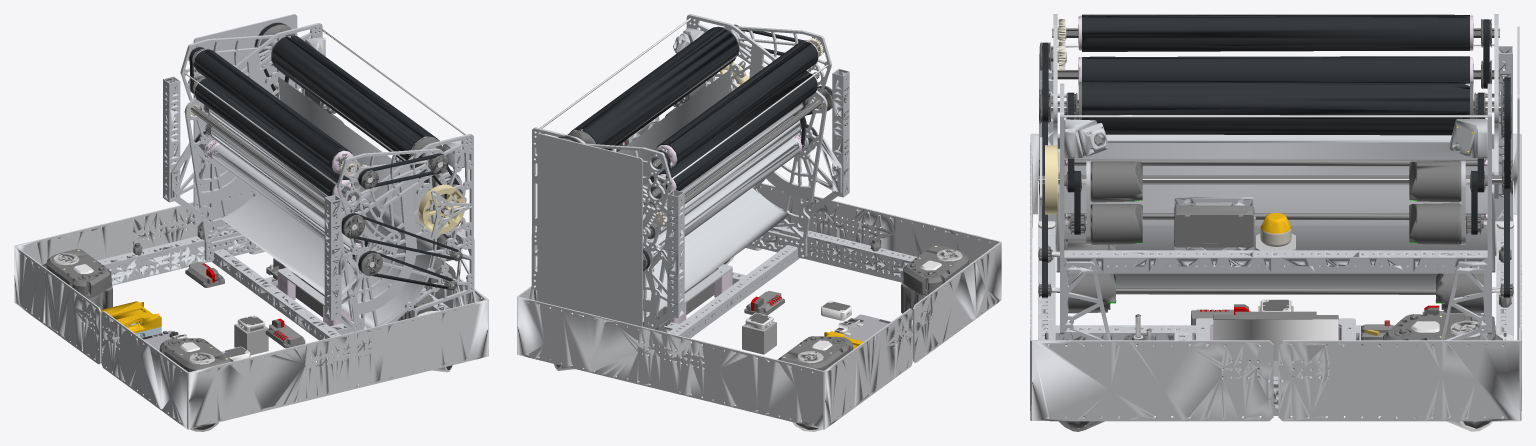
The model's file is ctrl-alt-defeat-9470.glb.
3 views of the same model, side by side, from view 1: azimuth 30°, elevation 25°; view 2: azimuth 150°, elevation 25°; view 3: azimuth 270°, elevation 25° (orthographic). The views are drawn at different scales.
Visible parts, largest first — view 1: frame, hood, flywheel; view 2: frame, hood, flywheel; view 3: frame, hood, flywheel.
Part boxes in pixels (x1,y1,x2,y2): frame: [14, 14, 488, 431]; hood: [180, 34, 445, 255]; flywheel: [271, 35, 442, 172]; frame: [517, 14, 1001, 431]; hood: [582, 26, 831, 233]; flywheel: [567, 26, 739, 150]; frame: [1030, 19, 1521, 431]; hood: [1053, 14, 1498, 198]; flywheel: [1078, 80, 1473, 135].
Size of the model in its own units: 0.708 by 0.5472 by 0.708.
